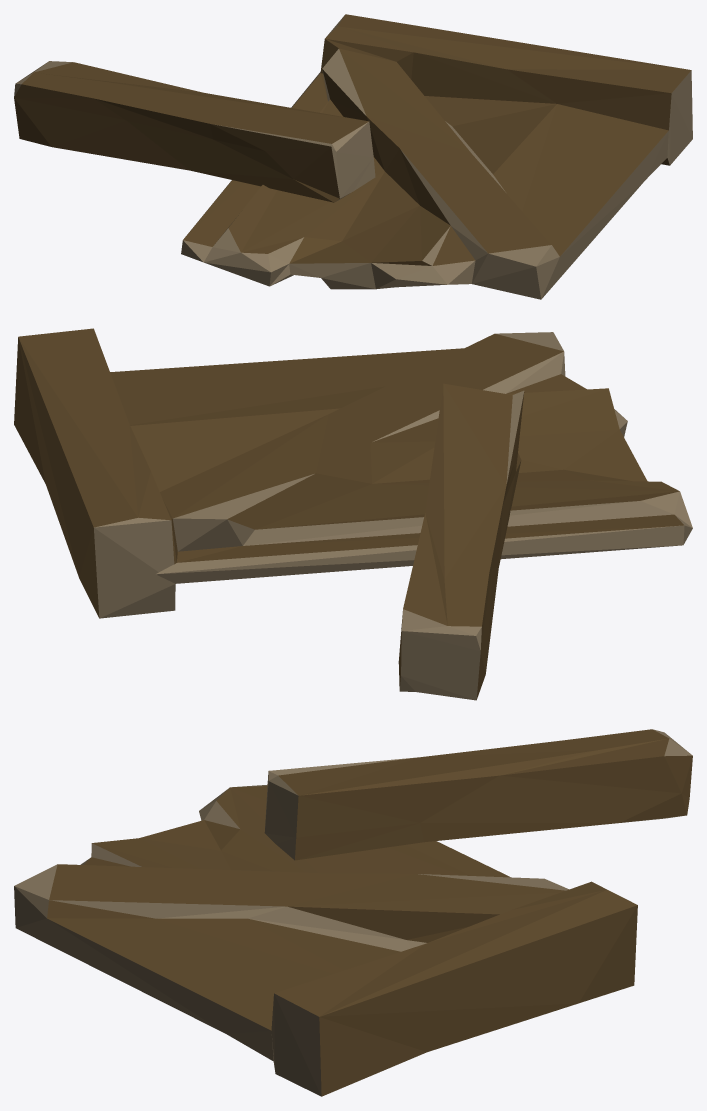
File: MDungeon_CrateWrecked_02.FBX
3 views of the same model, one above another, from view 1: azimuth 30°, elevation 25°; view 2: azimuth 150°, elevation 25°; view 3: azimuth 270°, elevation 25° (orthographic). The views are drawn at different scales.
Parts seen in each view (by area): view 1: MDungeon_CrateWrecked_02_LOD0; view 2: MDungeon_CrateWrecked_02_LOD0; view 3: MDungeon_CrateWrecked_02_LOD0.
Part boxes in pixels (<box>): MDungeon_CrateWrecked_02_LOD0: <box>14,14,692,299</box>; MDungeon_CrateWrecked_02_LOD0: <box>14,328,692,700</box>; MDungeon_CrateWrecked_02_LOD0: <box>14,729,692,1096</box>.
Size of what is drawn, in the model's own units: 1.17 by 0.2306 by 1.17.
